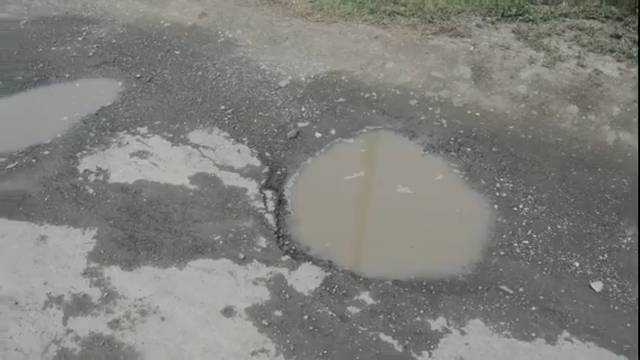pothole: (287, 50, 640, 192), (270, 109, 501, 293)
